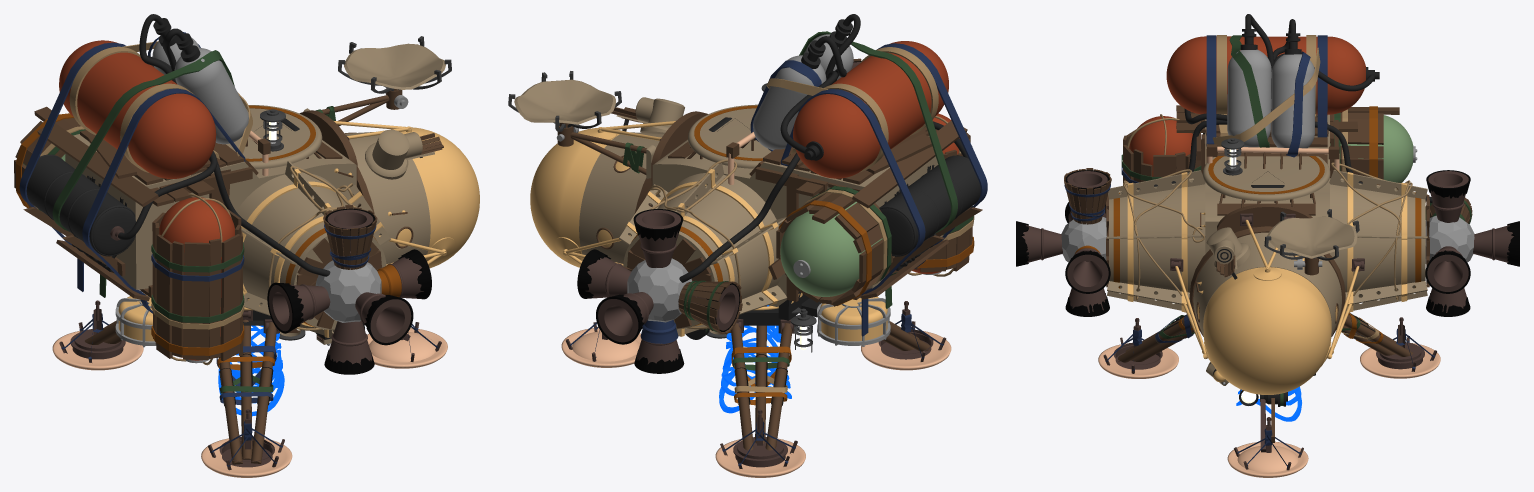
The model's file is outer_wilds__the_ship.glb.
The picture shows the model from 3 angles, left to right: view 1: azimuth 30°, elevation 25°; view 2: azimuth 150°, elevation 25°; view 3: azimuth 270°, elevation 25°; orthographic projection. The views are drawn at different scales.
Visible parts, largest first — view 1: Sphere.003_32, Cube.040_26, Cylinder.010_165, Cube.035_21, Cylinder.007_126, Sphere_116, Cube_117, Cube.046_35, Cylinder.015_170, Circle.012_72, Cylinder.027_93, Sphere.005_33 (+39 smaller); view 2: Sphere.003_32, Cylinder.009_164, Cube.035_21, Cylinder.018_143, Sphere_116, Cylinder.015_170, Sphere.001_20, Cube.046_35, Cube_117, Cube.034_19, Circle.012_72, Cylinder.030_6 (+41 smaller); view 3: Sphere_116, Cylinder.010_165, Cylinder.009_164, Sphere.003_32, Cylinder.018_143, Circle.001_135, Cylinder.007_126, Cylinder.013_131, Cylinder.015_170, Sphere.005_33, Sphere.004_100, Circle.012_72 (+40 smaller).
Boxes of the visible parts, x1,y1,x2,y2 form: Sphere.003_32: (59,40,216,178); Cube.040_26: (152,209,242,361); Cylinder.010_165: (236,160,390,337); Cube.035_21: (23,123,258,300); Cylinder.007_126: (269,209,423,364); Sphere_116: (391,126,479,268); Cube_117: (65,134,356,301); Cube.046_35: (26,154,135,256); Cylinder.015_170: (345,132,430,264); Circle.012_72: (343,43,445,89); Cylinder.027_93: (218,319,276,464); Sphere.005_33: (174,48,248,144); Sphere.003_32: (793,41,948,178); Cylinder.009_164: (619,163,786,336); Cube.035_21: (749,120,982,301); Cylinder.018_143: (585,210,739,364); Sphere_116: (530,127,625,267); Cylinder.015_170: (579,132,663,263); Sphere.001_20: (780,201,882,296); Cube.046_35: (879,155,980,256); Cube_117: (652,136,942,306); Cube.034_19: (768,192,892,306); Circle.012_72: (514,79,615,124); Cylinder.030_6: (731,306,792,450); Sphere_116: (1203,267,1332,394); Cylinder.010_165: (1107,170,1205,311); Cylinder.009_164: (1329,170,1427,312); Sphere.003_32: (1166,36,1365,114); Cylinder.018_143: (1427,171,1513,312); Circle.001_135: (1202,156,1330,201); Cylinder.007_126: (1022,171,1108,312); Cylinder.013_131: (1016,170,1519,316); Cylinder.015_170: (1193,232,1341,336); Sphere.005_33: (1227,49,1271,147); Sphere.004_100: (1271,54,1315,148); Circle.012_72: (1267,216,1357,258).
Size of the model in its own units: 5.86 by 5.34 by 6.76.
